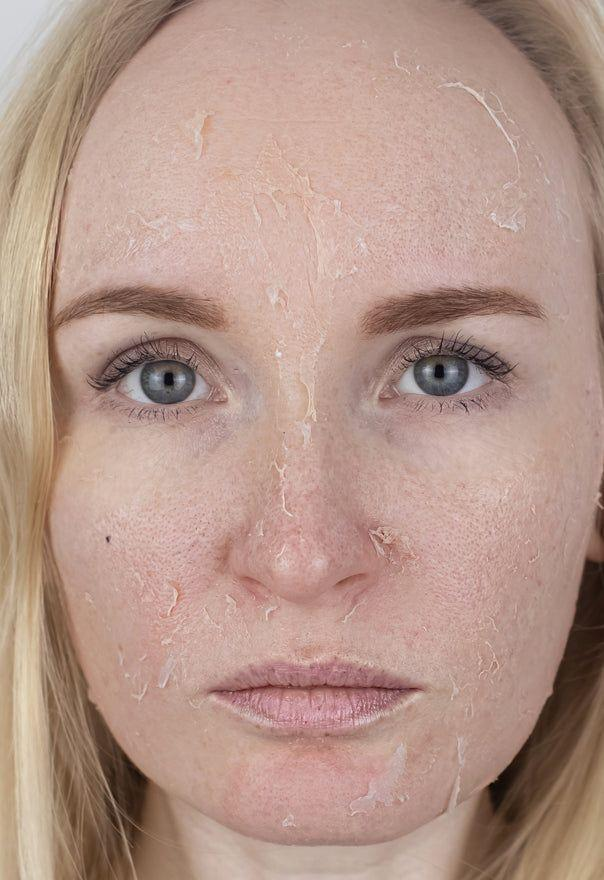Dry-Skin: (295, 100, 425, 205), (265, 445, 368, 560), (125, 113, 235, 220), (260, 758, 390, 830), (455, 502, 530, 625), (80, 542, 180, 632), (472, 158, 568, 250)
